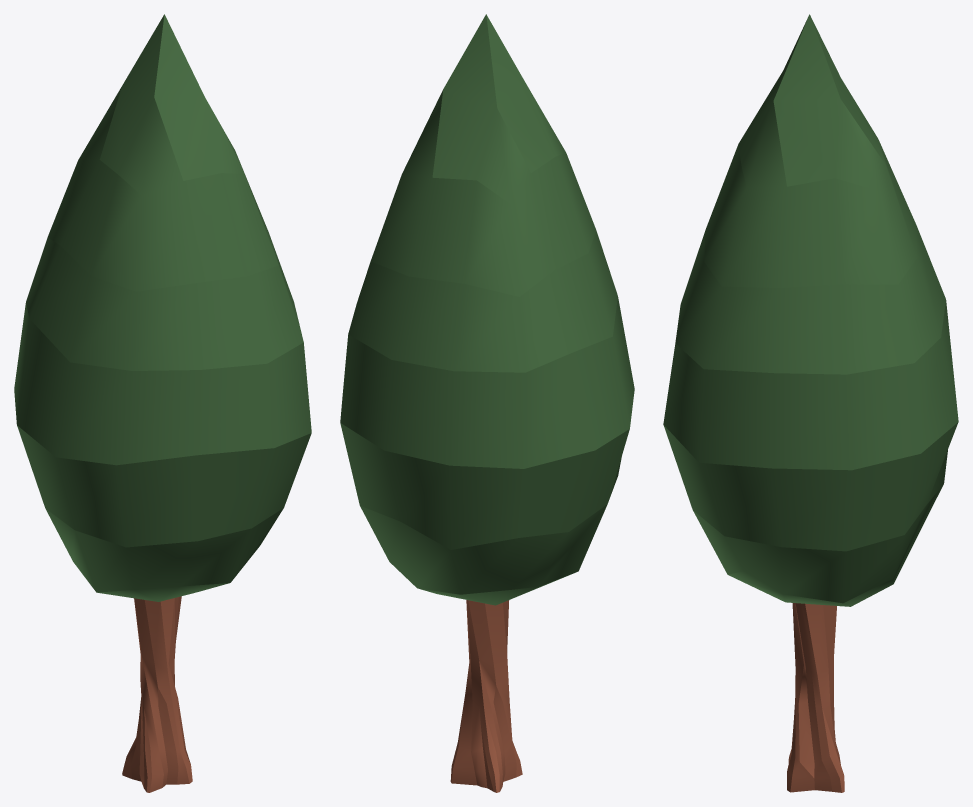
Rendered from Tree_3_High.fbx.
3 views of the same model, side by side, from view 1: azimuth 30°, elevation 25°; view 2: azimuth 150°, elevation 25°; view 3: azimuth 270°, elevation 25° (orthographic).
Visible parts, largest first — view 1: Tree_3_High; view 2: Tree_3_High; view 3: Tree_3_High.
Part boxes in pixels (bbox=[...]): Tree_3_High: bbox=[14, 14, 311, 792]; Tree_3_High: bbox=[340, 14, 634, 792]; Tree_3_High: bbox=[663, 14, 958, 792].
Size of the model in its own units: 81.06 by 236 by 81.96.
